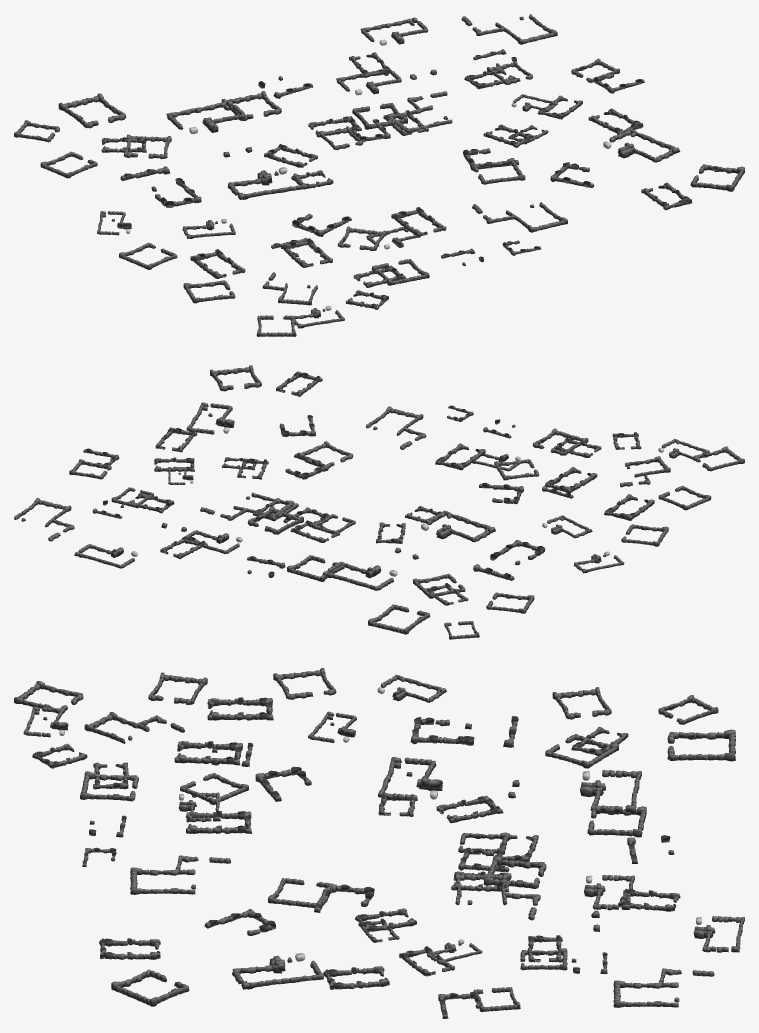
Rendered from LittleRocksBlock1.FBX.
The picture shows the model from 3 angles, top to bottom: view 1: azimuth 30°, elevation 25°; view 2: azimuth 150°, elevation 25°; view 3: azimuth 270°, elevation 25°; orthographic projection. The views are drawn at different scales.
Visible parts, largest first — view 1: Object3763; view 2: Object3763; view 3: Object3763.
Boxes of the visible parts, x1,y1,x2,y2 form: Object3763: (14, 14, 744, 336); Object3763: (14, 365, 744, 639); Object3763: (14, 668, 744, 1018).
Size of the model in its own units: 11037 by 339 by 9881.
